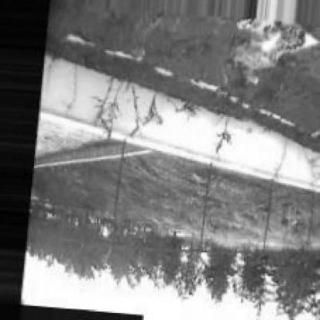Fire: (226, 22, 310, 84)
